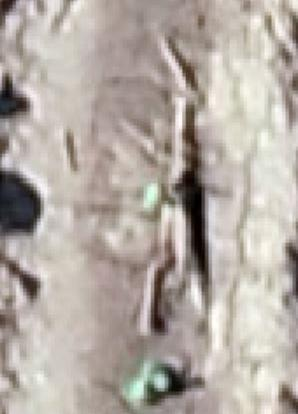cotton: (125, 364, 171, 400), (145, 182, 162, 205)
